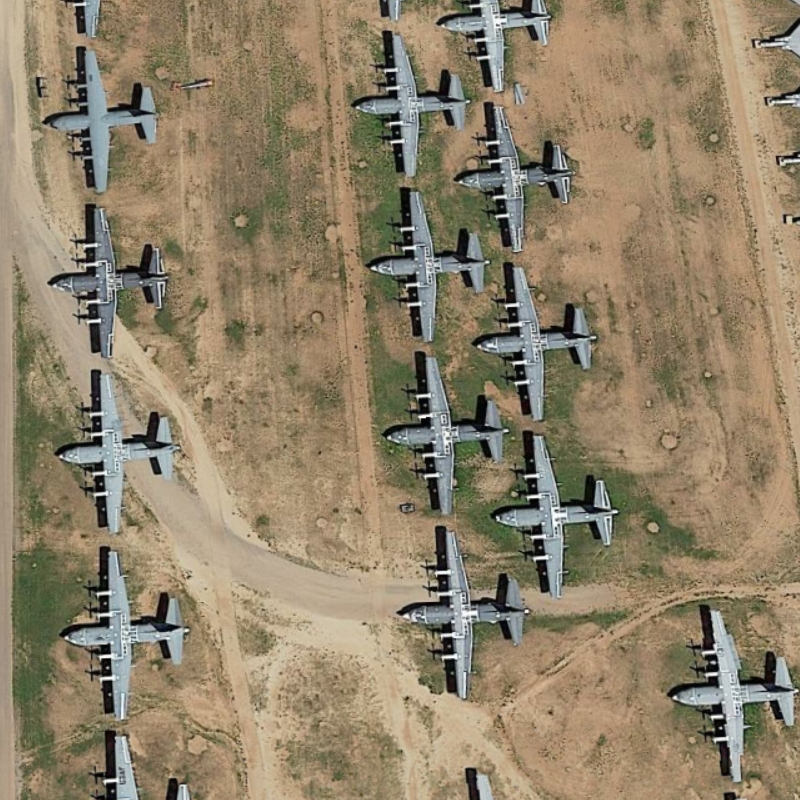A2: (390, 519, 539, 705), (665, 597, 800, 789), (57, 544, 200, 725), (49, 365, 193, 537), (374, 349, 513, 520), (486, 429, 624, 599), (470, 255, 604, 427), (358, 186, 494, 349), (41, 204, 179, 358), (455, 93, 582, 257), (46, 36, 171, 194), (349, 26, 473, 183)
